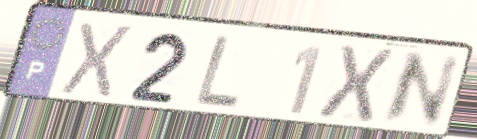1: (288, 43, 326, 116)
2: (122, 27, 195, 107)
L: (191, 32, 243, 112)
N: (376, 50, 465, 127)
X: (313, 42, 397, 124), (56, 19, 137, 103)
